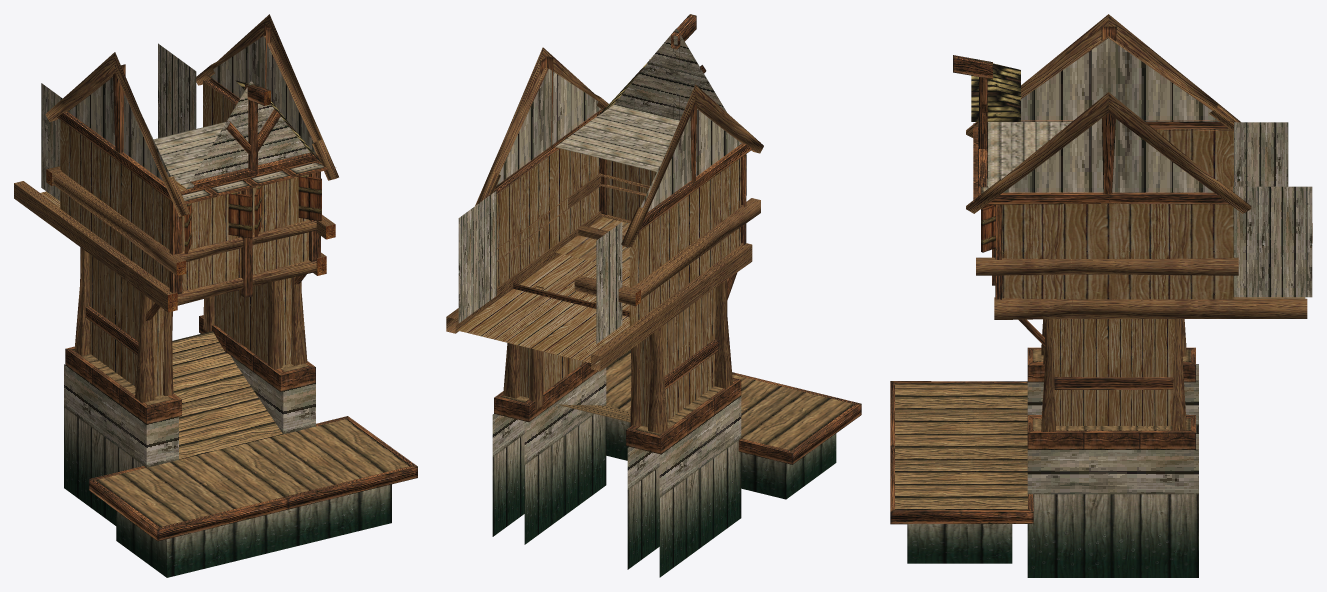
Rendered from LAKETOWN_EXTERIOR_PS_LT_PIER_HOUSE77__GX.fbx.
3 views of the same model, side by side, from view 1: azimuth 30°, elevation 25°; view 2: azimuth 150°, elevation 25°; view 3: azimuth 270°, elevation 25° (orthographic). The views are drawn at different scales.
Visible parts, largest first — view 1: LAKETOWN_EXTERIOR_PS_LT_PIER_HOUSE77__GX; view 2: LAKETOWN_EXTERIOR_PS_LT_PIER_HOUSE77__GX; view 3: LAKETOWN_EXTERIOR_PS_LT_PIER_HOUSE77__GX.
Part boxes in pixels (x1,y1,x2,y2): LAKETOWN_EXTERIOR_PS_LT_PIER_HOUSE77__GX: (14,14,417,577); LAKETOWN_EXTERIOR_PS_LT_PIER_HOUSE77__GX: (446,14,861,577); LAKETOWN_EXTERIOR_PS_LT_PIER_HOUSE77__GX: (890,14,1312,577).
Size of the model in its own units: 81723 by 139959 by 111074.
12 materials, 12 textured.
